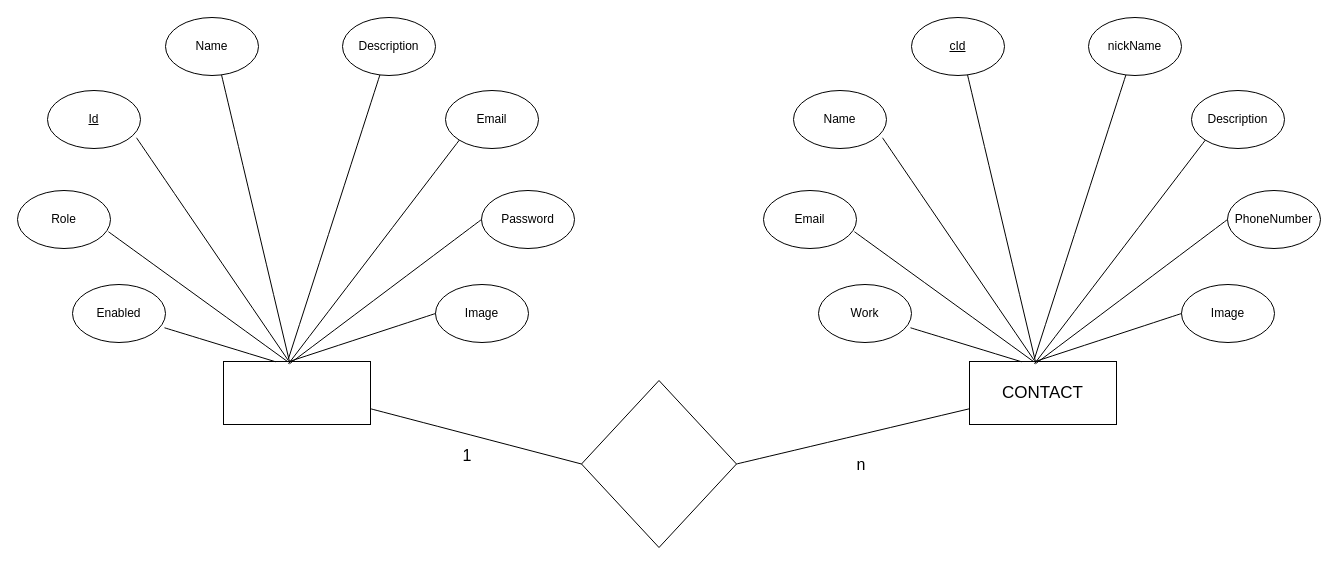
Image size: 1338x565. Some labels were removed from this diagram. Here are the shapes that lost their labels. From the top down, the centre of each, then its label:
point 296,392: USER
point 658,464: has
